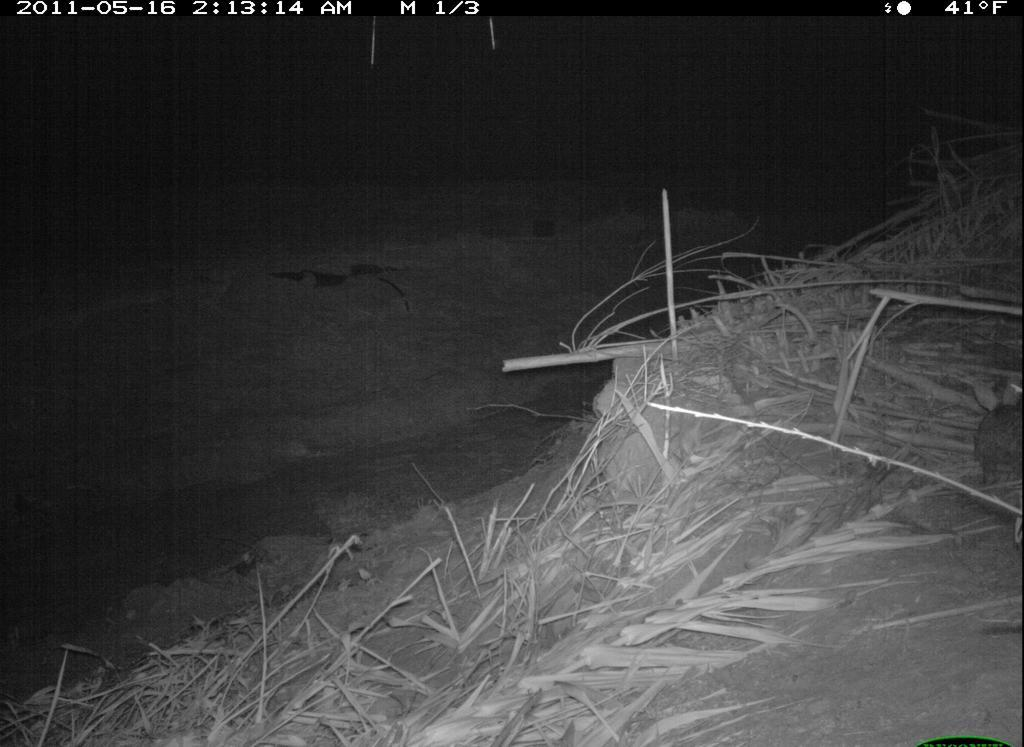rabbit: (963, 376, 1023, 496)
